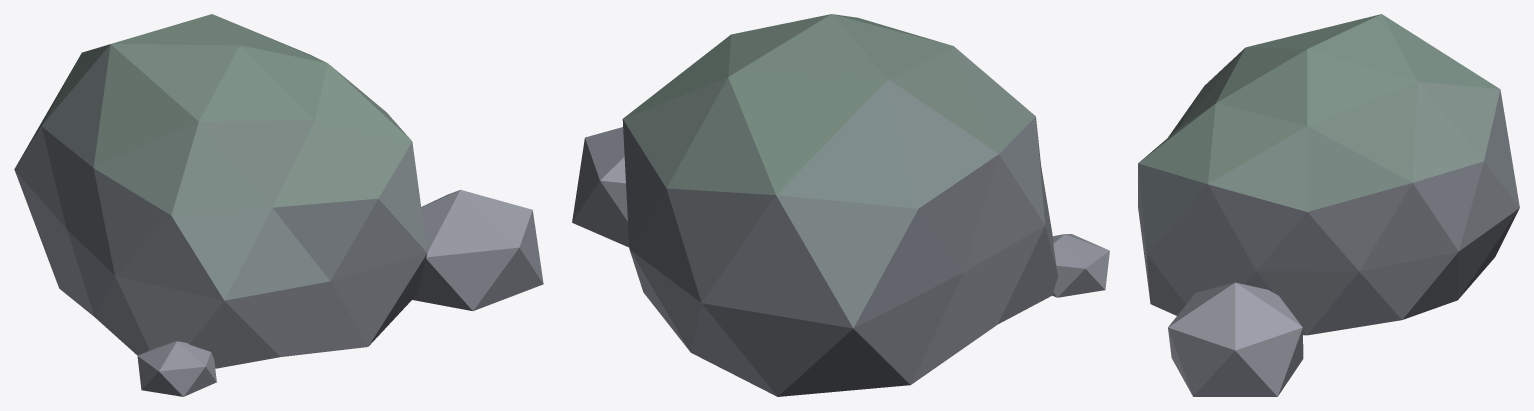
Rendered from rock_b.glb.
3 views of the same model, side by side, from view 1: azimuth 30°, elevation 25°; view 2: azimuth 150°, elevation 25°; view 3: azimuth 270°, elevation 25° (orthographic). The views are drawn at different scales.
Parts seen in each view (by area): view 1: rock_b; view 2: rock_b; view 3: rock_b.
Boxes of the visible parts, box(x1,y1,x2,y2) form: rock_b: box(14, 14, 543, 396); rock_b: box(572, 14, 1109, 396); rock_b: box(1138, 14, 1519, 396).
Bounding box in the file's own units: 1.91 × 1.09 × 1.59.
